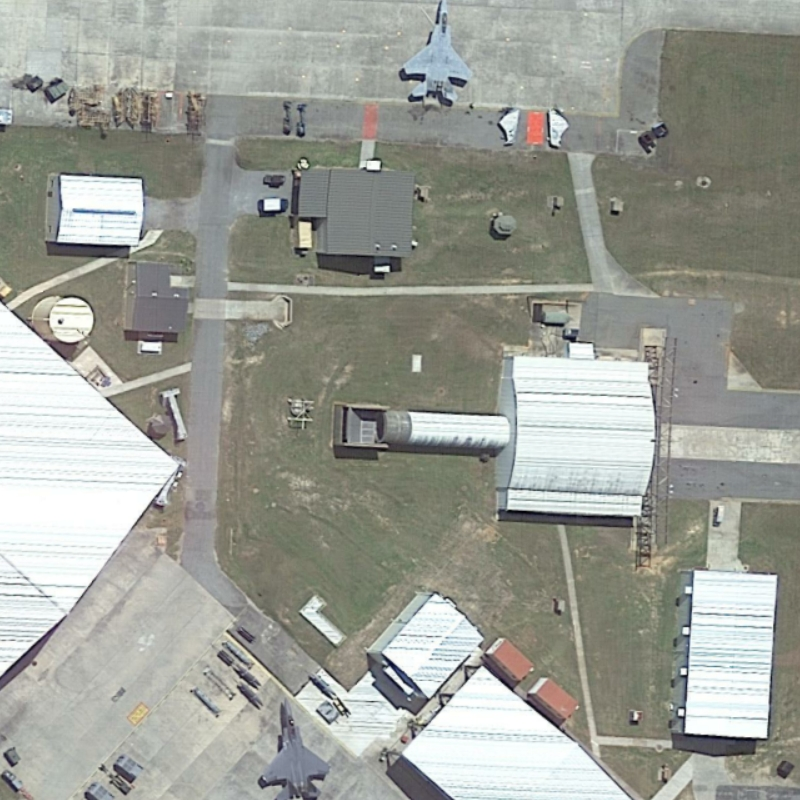A13: (392, 1, 476, 111), (256, 691, 332, 800)
